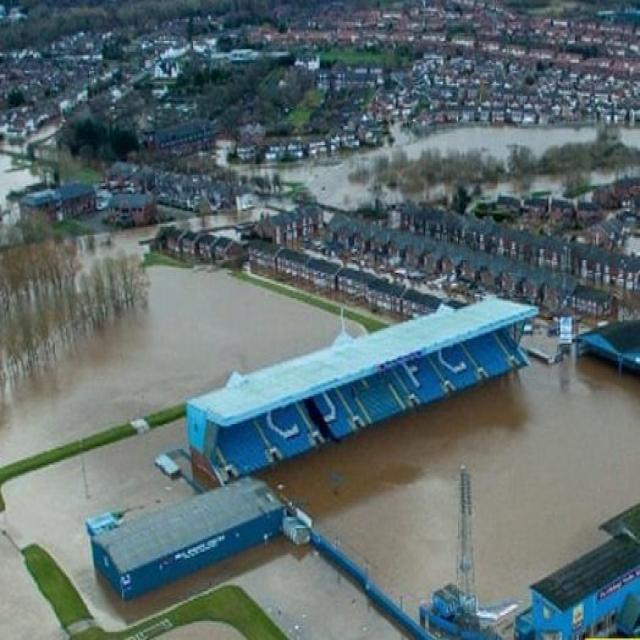flooded_areas: (0, 121, 634, 637)
